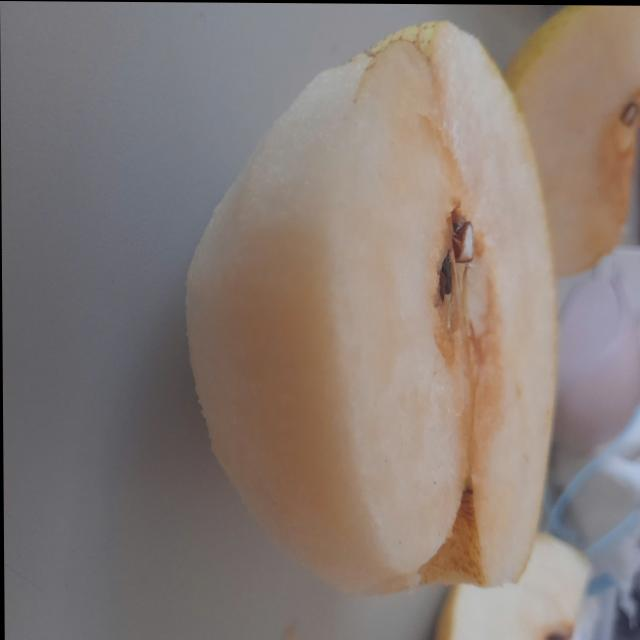Le: (178, 4, 640, 593)
